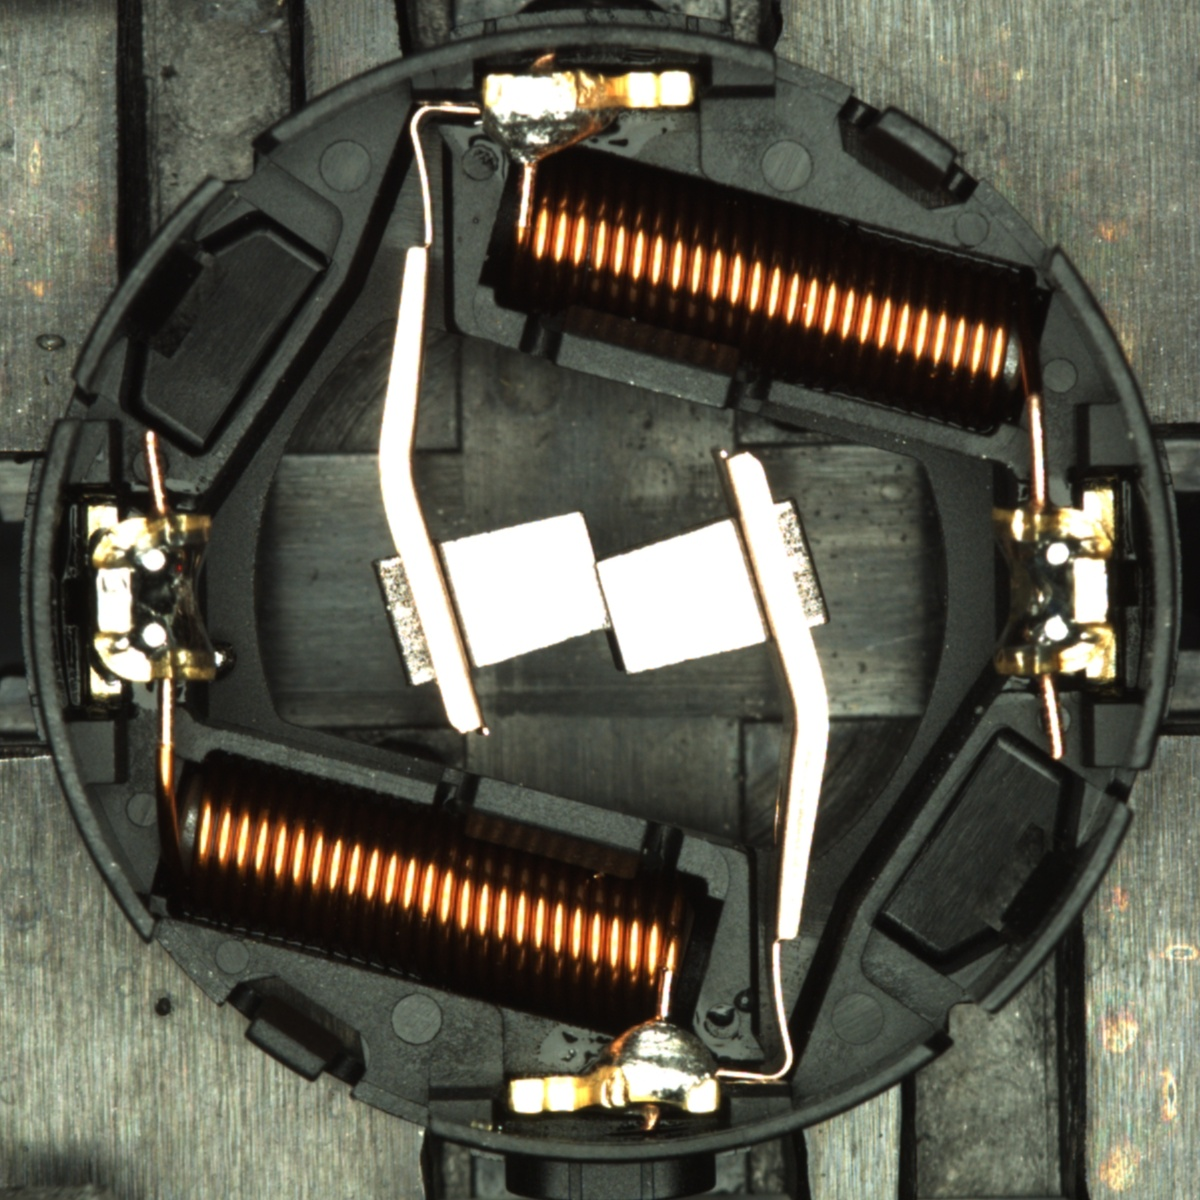1: (253, 32, 482, 256), (712, 930, 941, 1154)
2: (253, 930, 482, 1154), (712, 32, 941, 256)
3: (24, 256, 253, 481), (941, 705, 1170, 930)
4: (253, 256, 482, 481), (712, 705, 941, 930)
5: (482, 144, 712, 368), (482, 818, 712, 1042)
6: (712, 256, 941, 481), (253, 705, 482, 930)
7: (941, 256, 1170, 481), (24, 705, 253, 930)
cacbon: (393, 499, 801, 687)
chau_dien: (81, 497, 221, 699), (984, 488, 1124, 687)
hat_chi: (208, 641, 237, 680)
tay_choi: (480, 66, 699, 166), (508, 1016, 721, 1116)
thanh_de: (954, 787, 1141, 1030), (58, 164, 244, 404)
